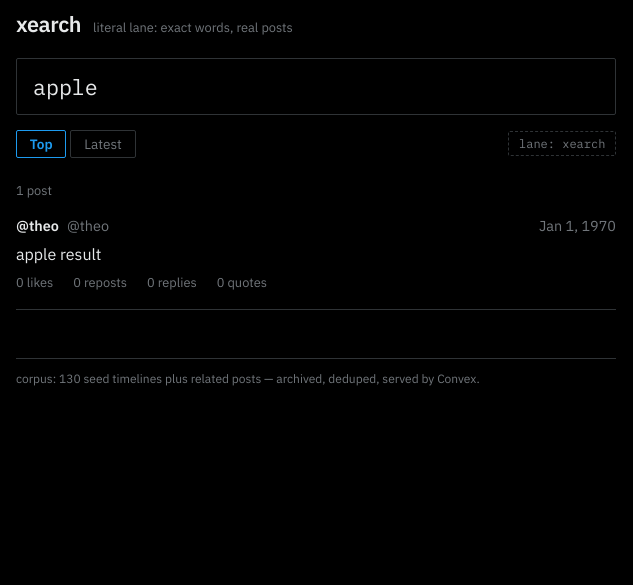
sort change /?q=apple&sort=latest -> Top shows loading, never stale results
The image size is (633, 585).
Click the tab "Top" at (41, 144), box [16,130,66,158]
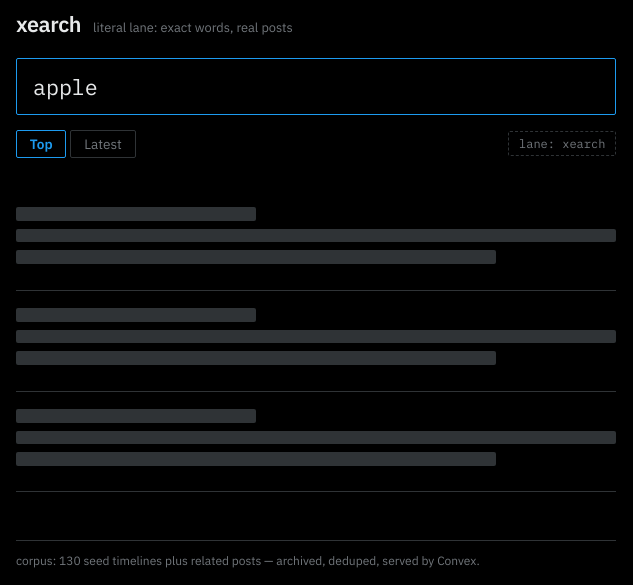
Result: the text "apple result" is gone
Result: the element named "Loading results" is shown at [16,190,616,492]
